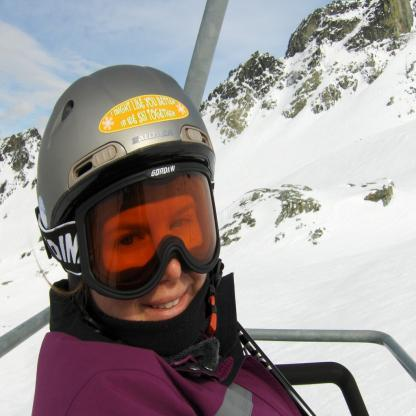Helmet: (28, 72, 227, 345)
